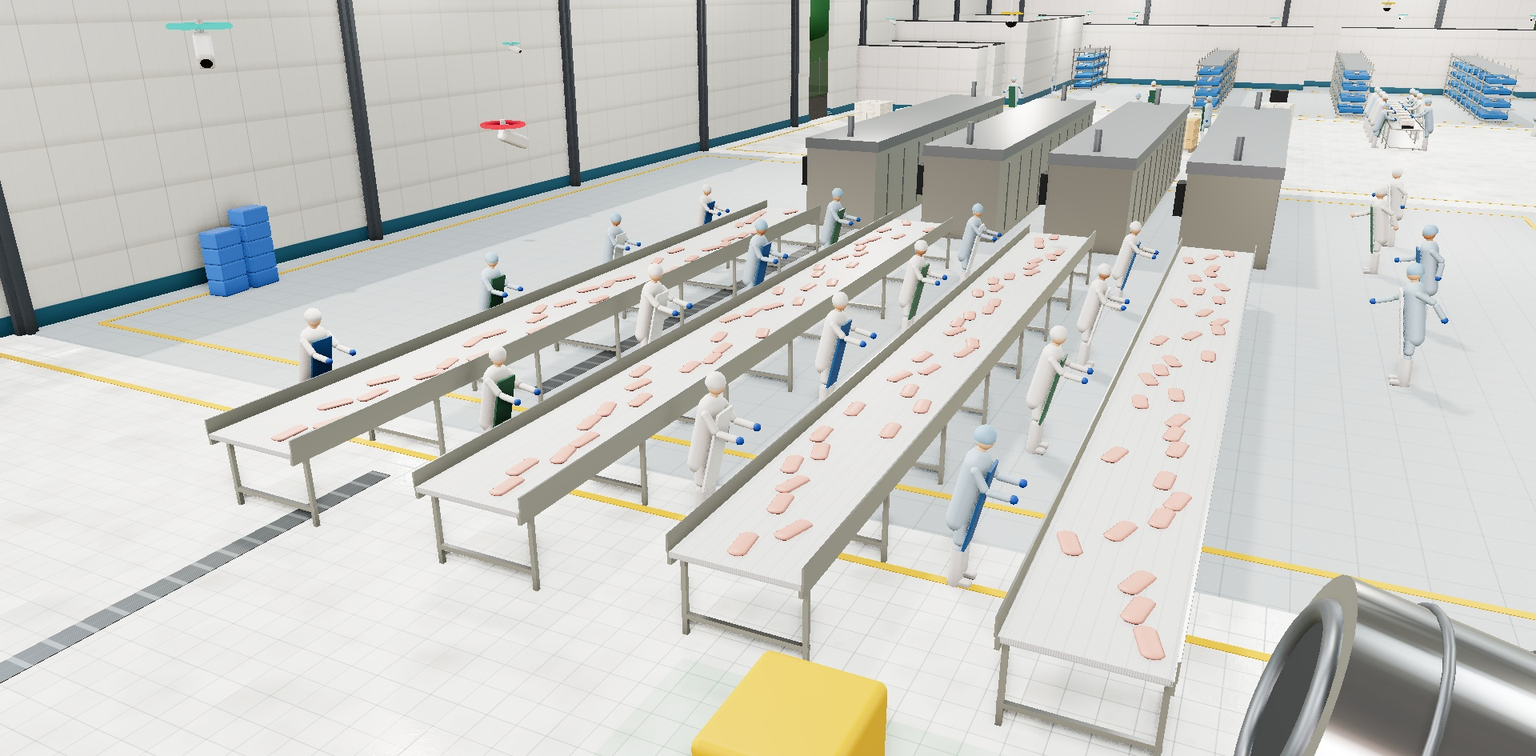apron: (961, 455, 999, 557), (699, 402, 734, 496), (300, 333, 342, 408), (484, 371, 522, 450), (1038, 351, 1068, 428), (1386, 287, 1418, 358), (643, 288, 671, 359), (826, 317, 852, 391), (481, 273, 510, 334), (1404, 246, 1432, 306), (1087, 285, 1111, 347), (908, 262, 930, 322), (751, 241, 772, 300), (1120, 240, 1141, 292), (607, 231, 628, 282), (1361, 204, 1382, 254), (966, 222, 985, 273), (828, 207, 846, 257), (1379, 184, 1399, 228), (699, 200, 716, 244), (1416, 110, 1431, 139), (1375, 105, 1388, 132), (1409, 103, 1422, 129), (1372, 102, 1385, 127), (1406, 100, 1418, 125), (1377, 113, 1389, 138), (1370, 99, 1382, 123), (1403, 98, 1415, 121), (1131, 102, 1142, 127), (1146, 90, 1158, 112), (1006, 86, 1018, 108), (1368, 96, 1379, 119), (1199, 105, 1208, 132)
glove: (1007, 493, 1020, 507), (1017, 476, 1029, 490), (734, 434, 746, 448), (751, 421, 763, 434), (1438, 315, 1451, 326), (323, 356, 335, 367), (1079, 375, 1090, 386), (512, 397, 523, 408), (532, 386, 543, 397), (347, 347, 358, 358), (1085, 366, 1095, 376), (858, 339, 868, 349), (670, 308, 680, 318), (1368, 296, 1378, 306), (869, 331, 878, 341), (685, 301, 694, 311), (516, 285, 525, 293), (1393, 256, 1402, 264), (1119, 304, 1127, 312), (1123, 298, 1131, 306), (501, 291, 509, 299), (934, 279, 941, 287), (1434, 275, 1442, 282), (1150, 254, 1157, 261), (1153, 249, 1160, 256), (941, 274, 948, 281), (772, 258, 779, 265), (782, 253, 789, 260), (624, 245, 631, 252), (991, 236, 998, 242), (996, 232, 1003, 238), (855, 216, 861, 223), (635, 241, 642, 247), (848, 220, 854, 226), (716, 211, 722, 217), (1371, 192, 1377, 197), (1400, 204, 1406, 209), (725, 208, 730, 213), (1410, 115, 1414, 119), (1020, 91, 1024, 95), (1201, 117, 1206, 120), (1383, 100, 1387, 103), (1401, 105, 1405, 108), (1385, 103, 1389, 106), (1403, 107, 1407, 110), (1404, 108, 1408, 111), (1393, 111, 1397, 114), (1392, 110, 1396, 113), (1409, 114, 1413, 117), (1205, 119, 1209, 122), (1002, 91, 1006, 94), (1397, 101, 1400, 104), (1384, 101, 1387, 104), (1401, 104, 1404, 107), (1386, 104, 1389, 107), (1390, 107, 1393, 110), (1389, 106, 1392, 109), (1394, 119, 1397, 122), (1130, 113, 1133, 116), (1153, 96, 1156, 99), (1393, 118, 1397, 120), (1398, 102, 1401, 104), (1139, 116, 1142, 118), (1148, 96, 1151, 98)
hairnet: (970, 417, 1003, 448), (700, 365, 732, 393), (484, 341, 512, 364), (298, 304, 327, 325), (1047, 320, 1072, 343), (829, 287, 853, 308), (643, 259, 668, 279), (1403, 259, 1428, 278), (481, 248, 503, 265), (1095, 260, 1115, 277), (1420, 221, 1441, 237), (912, 237, 931, 253), (752, 216, 771, 232), (607, 210, 625, 223), (1128, 218, 1144, 232), (1373, 183, 1390, 196), (970, 201, 986, 214), (830, 186, 846, 198), (1390, 165, 1405, 176), (700, 182, 714, 193), (1423, 98, 1434, 104), (1415, 92, 1425, 98), (1381, 93, 1390, 99), (1206, 95, 1215, 101), (1409, 87, 1417, 93), (1376, 88, 1384, 94), (1379, 90, 1387, 96), (1383, 102, 1391, 108), (1412, 90, 1421, 95), (1150, 80, 1158, 85), (1010, 76, 1018, 81), (1374, 86, 1381, 91), (1135, 92, 1142, 97)
person: (933, 408, 1035, 605), (674, 358, 763, 541), (1353, 254, 1463, 394), (461, 335, 550, 488), (277, 299, 370, 444), (1015, 315, 1100, 465), (807, 283, 880, 426), (623, 255, 696, 393), (1380, 218, 1457, 334), (1068, 256, 1135, 377), (464, 245, 530, 362), (891, 234, 951, 350), (1340, 181, 1408, 277), (735, 214, 790, 327), (1104, 216, 1164, 316), (951, 199, 1005, 297), (593, 208, 645, 306), (814, 184, 863, 280), (1362, 164, 1416, 249), (688, 180, 731, 264), (1403, 97, 1442, 152), (1365, 92, 1400, 144), (1397, 91, 1432, 141), (1363, 90, 1397, 139), (1368, 101, 1401, 149), (1395, 89, 1428, 136), (1361, 87, 1392, 134), (1392, 87, 1424, 132), (1360, 85, 1390, 130), (1197, 95, 1221, 145), (1001, 75, 1025, 119), (1125, 92, 1146, 140), (1141, 79, 1161, 123), (1527, 89, 1536, 138)
